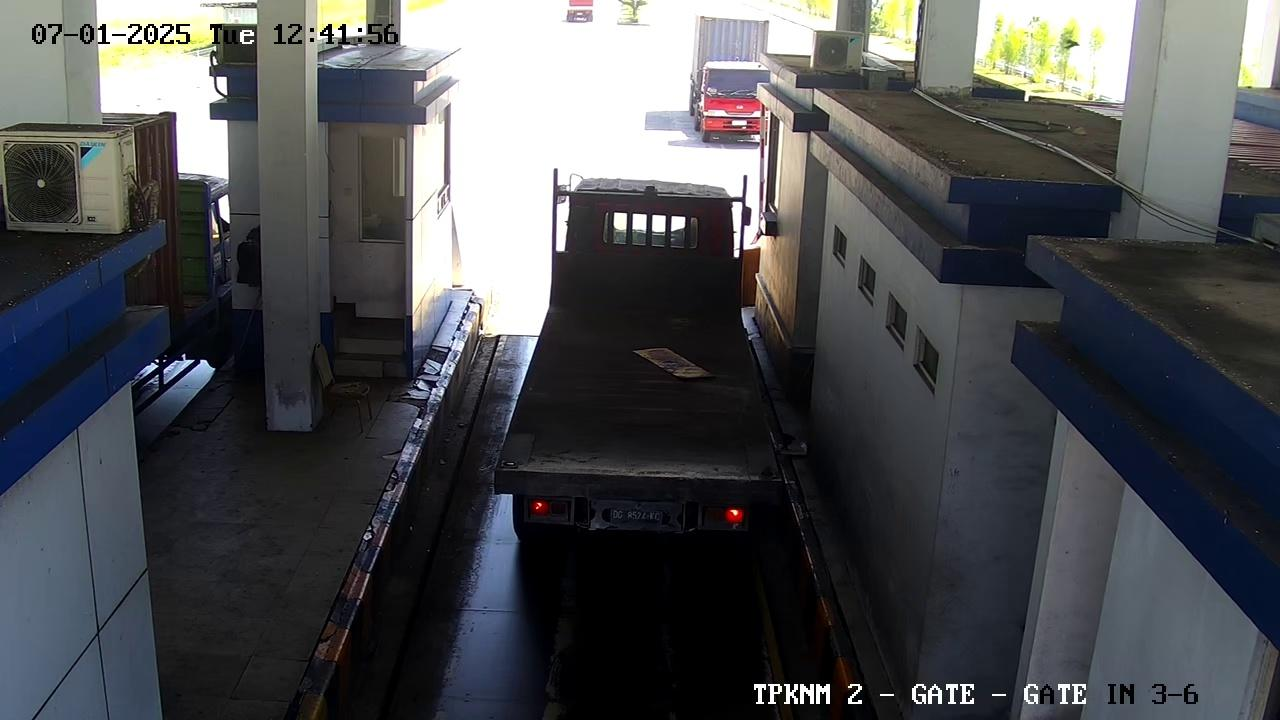plate_number: (601, 503, 667, 530)
